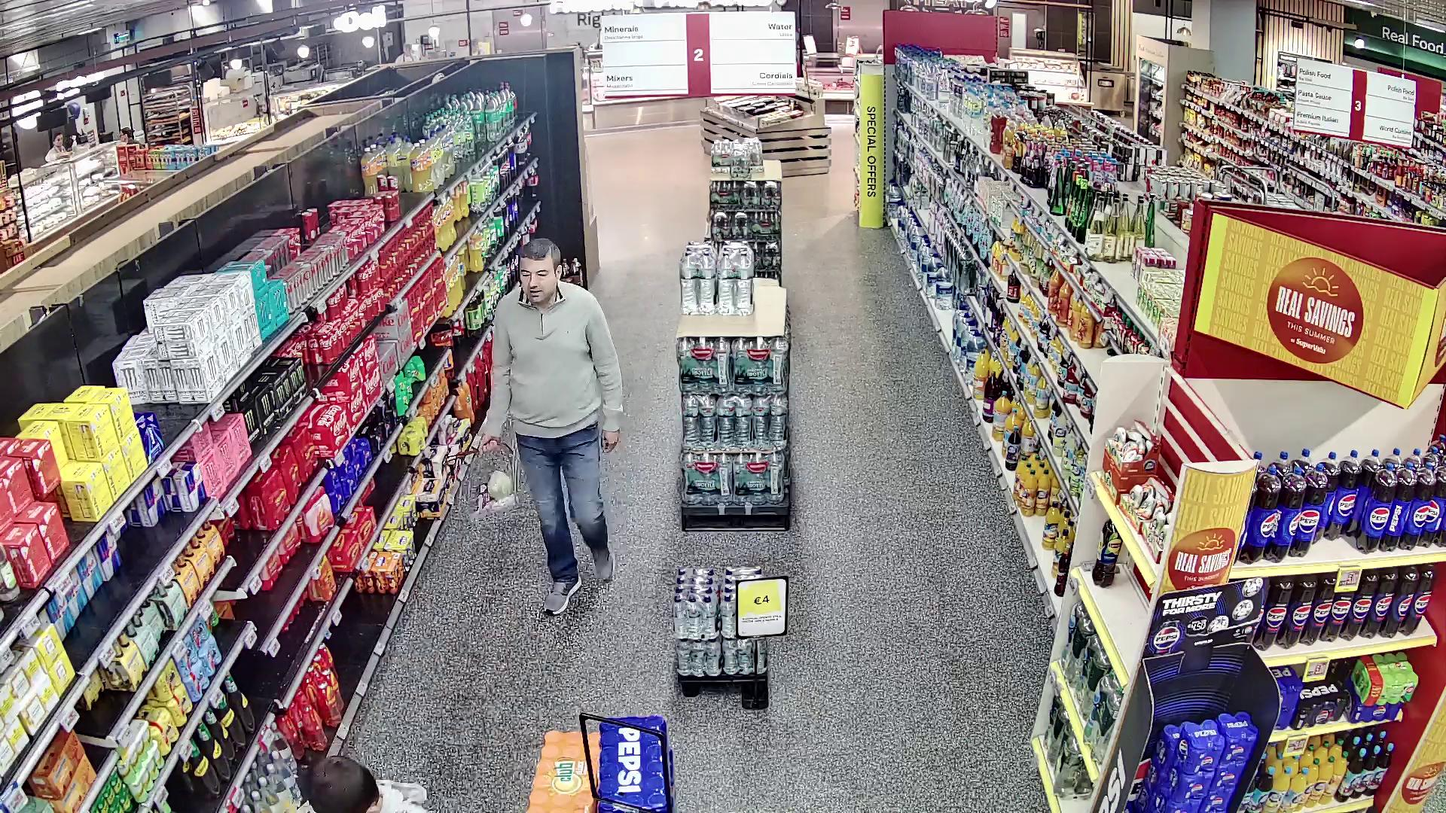filled-basket: (437, 443, 521, 522)
person: (479, 237, 625, 616)
person-with-filled-basket-trolly: (435, 236, 626, 617)
